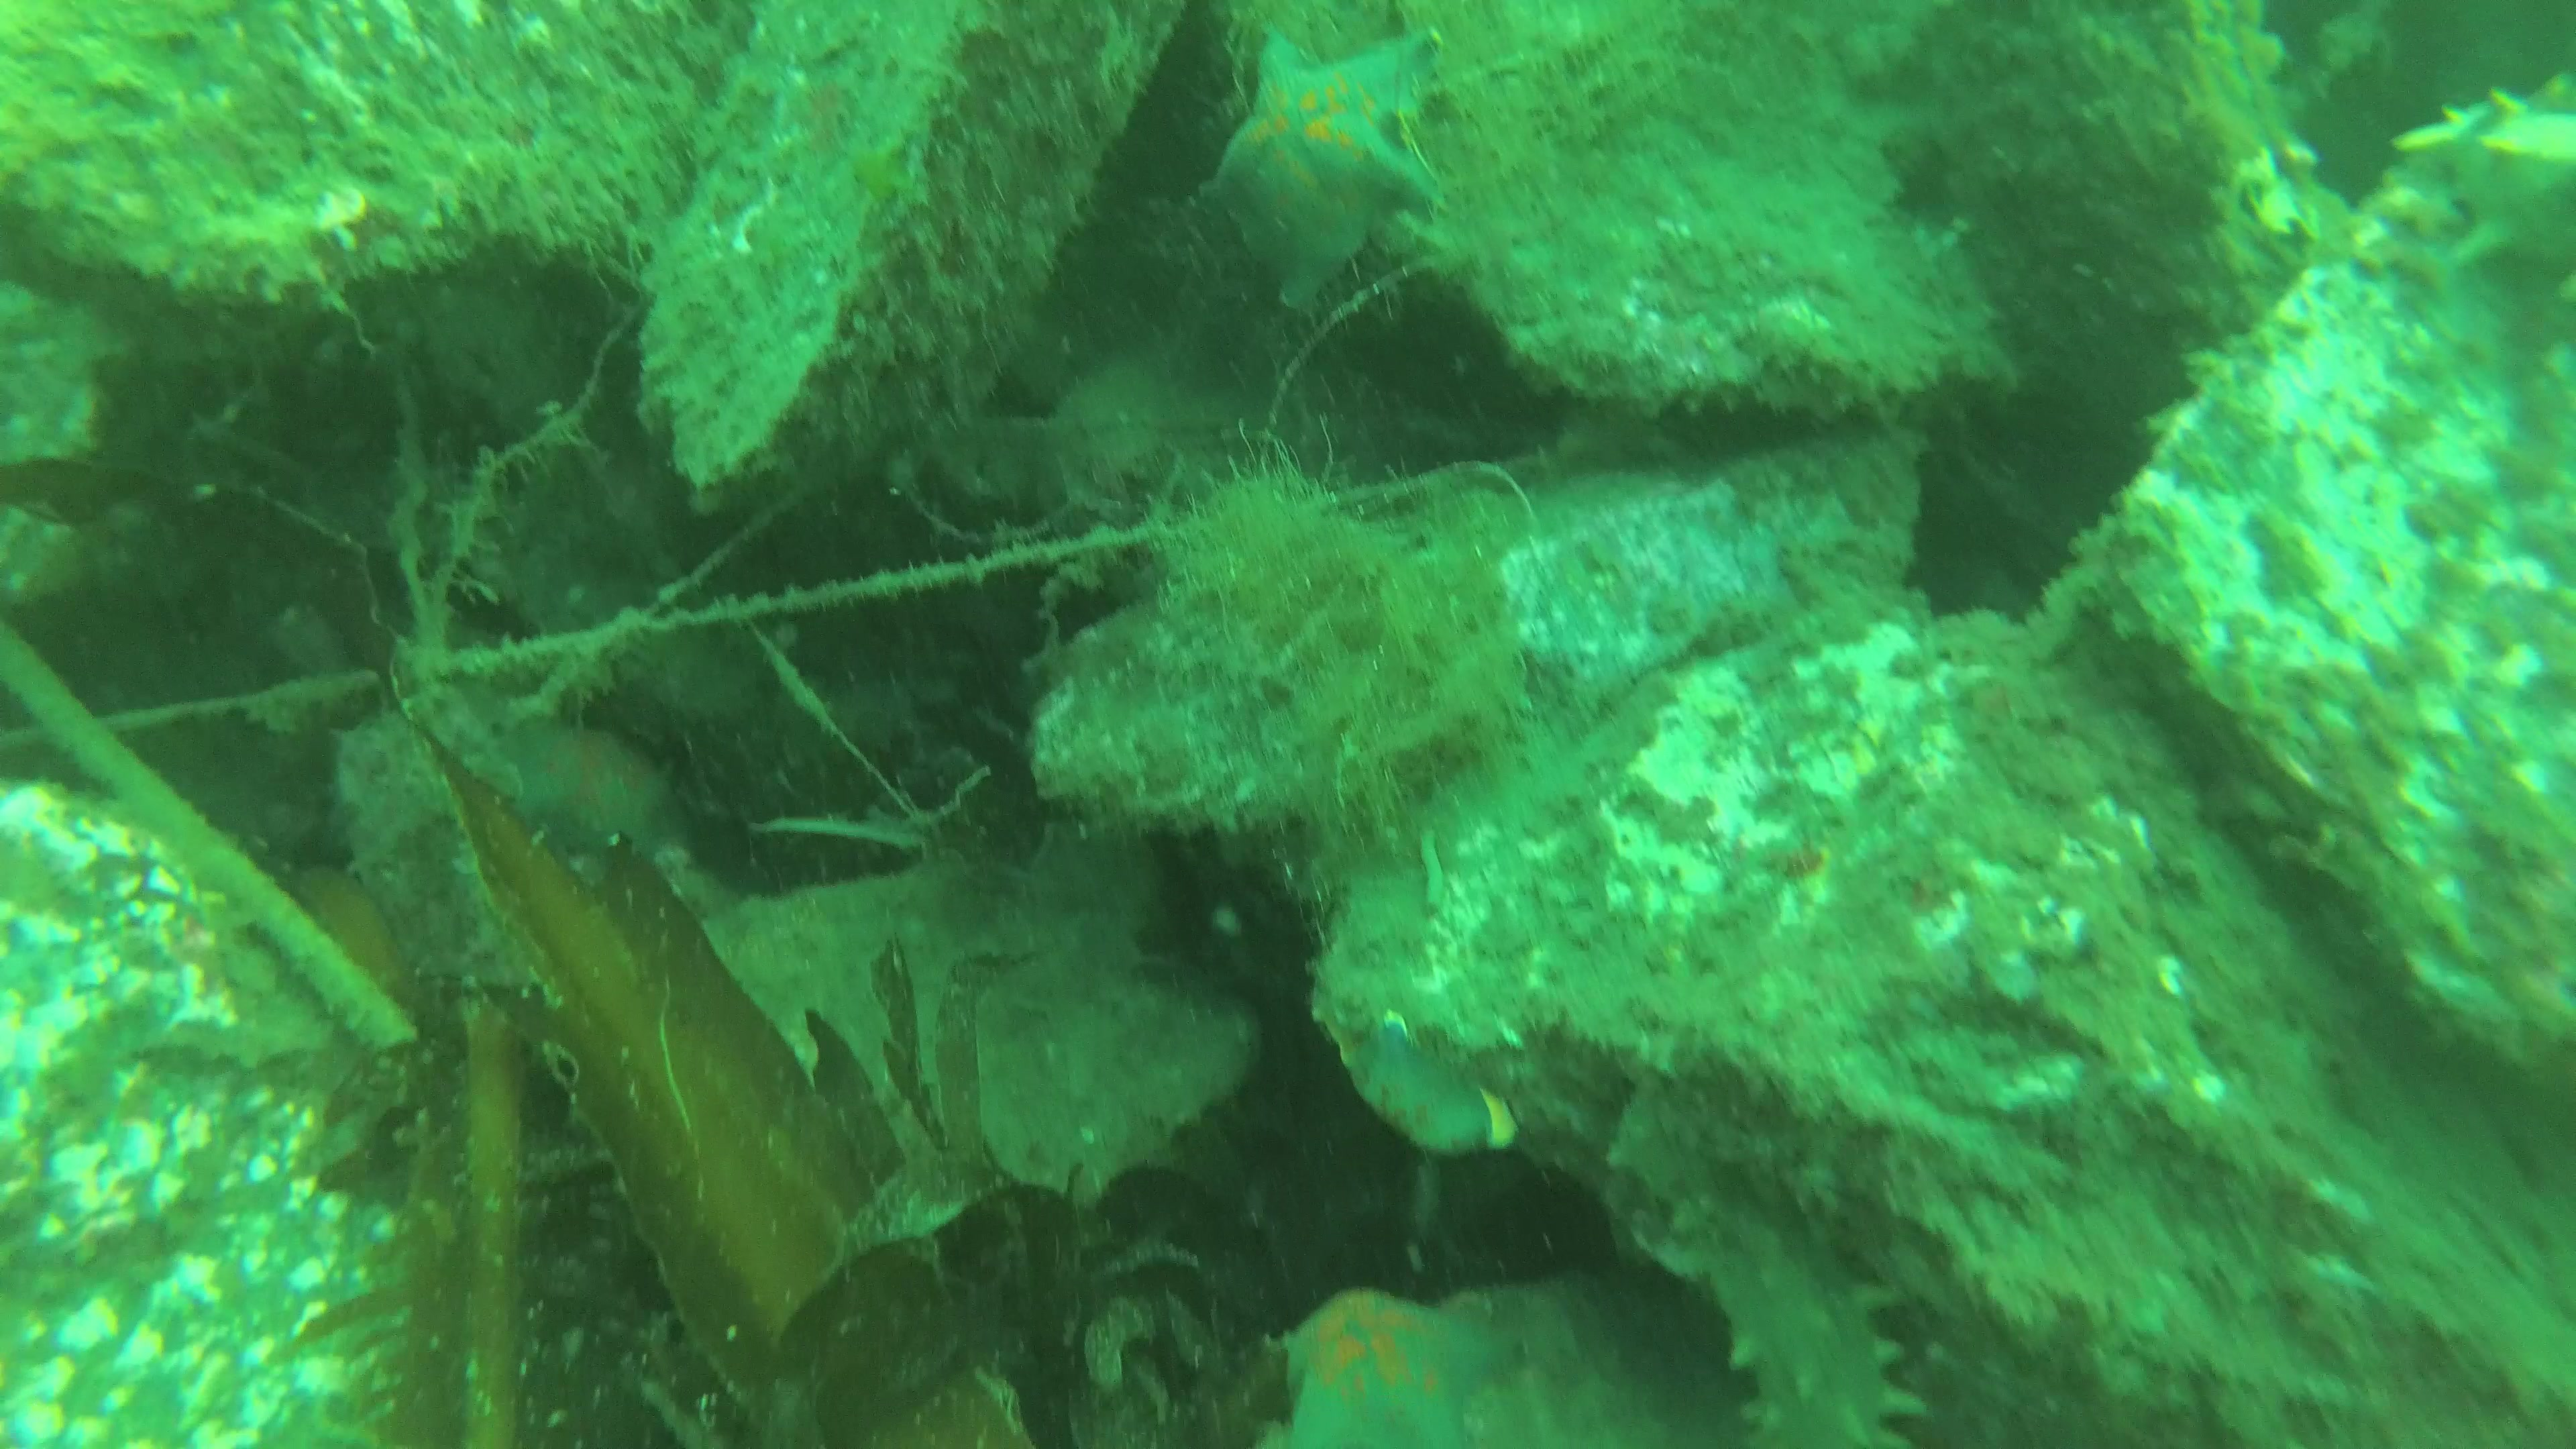holothurian: (1637, 1177, 1937, 1449), (2390, 94, 2576, 294)
starfish: (1198, 34, 1445, 313), (1276, 1288, 1537, 1449), (1334, 1016, 1529, 1155), (515, 717, 692, 865)
